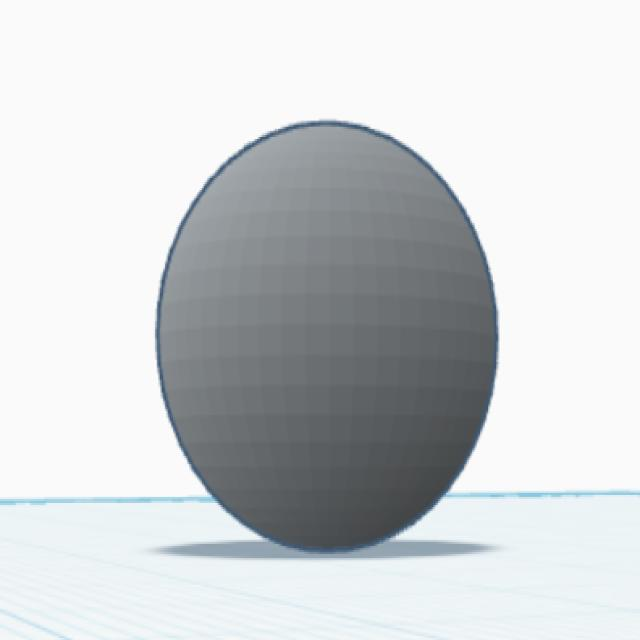sphere: (152, 117, 502, 558)
